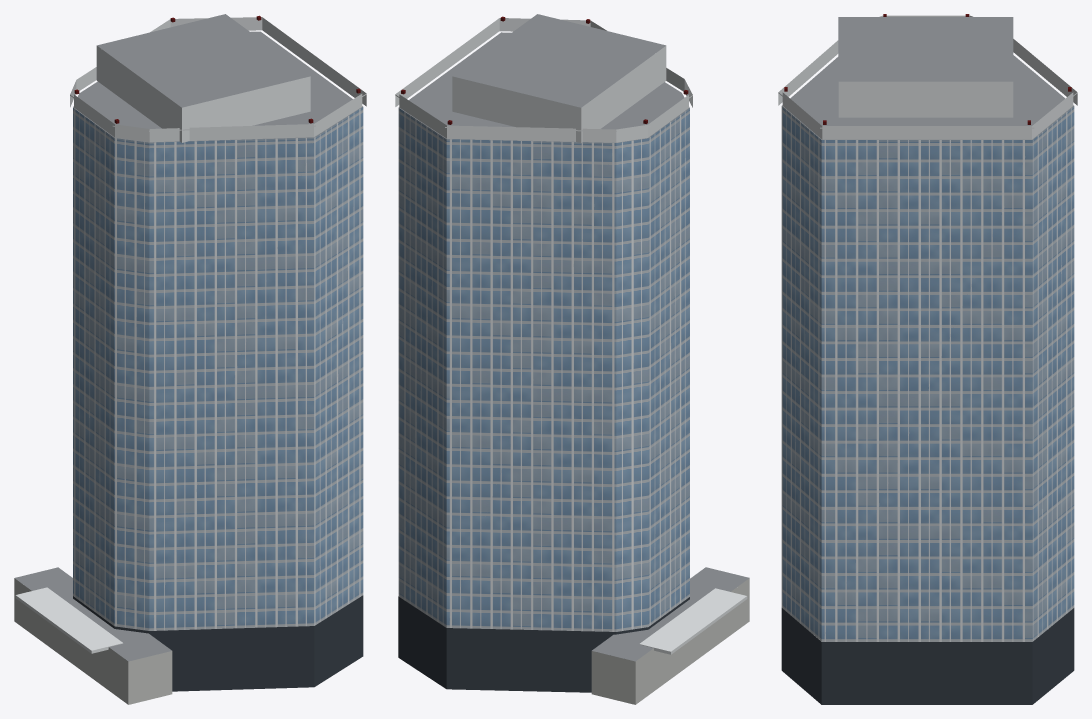
The model's file is shiba_park_hotel_south.glb.
3 renders of one model, left to right at view 1: azimuth 30°, elevation 25°; view 2: azimuth 150°, elevation 25°; view 3: azimuth 270°, elevation 25°, orthographic. The views are drawn at different scales.
Parts seen in each view (by area): view 1: ShibaParkHotelSouth_Near; view 2: ShibaParkHotelSouth_Near; view 3: ShibaParkHotelSouth_Near.
Boxes of the visible parts, box(x1,y1,x2,y2) form: ShibaParkHotelSouth_Near: box(14, 14, 366, 704); ShibaParkHotelSouth_Near: box(395, 14, 749, 704); ShibaParkHotelSouth_Near: box(778, 14, 1077, 704).
Size of the model in its own units: 53.5 by 114 by 51.62.
Materials: 7 (1 with a texture image).
